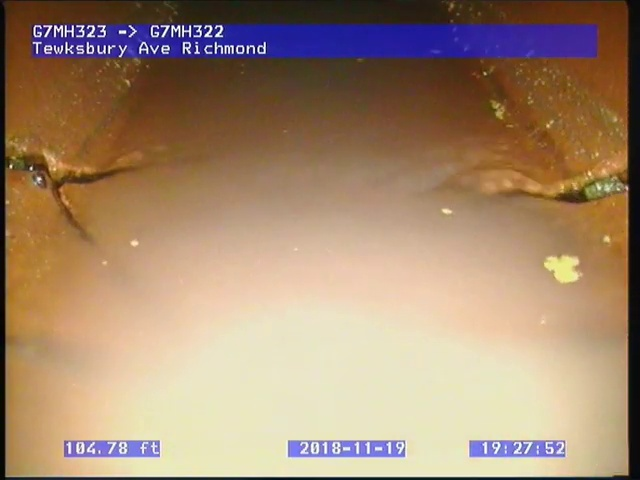crack: (5, 146, 148, 250), (502, 164, 628, 208)
